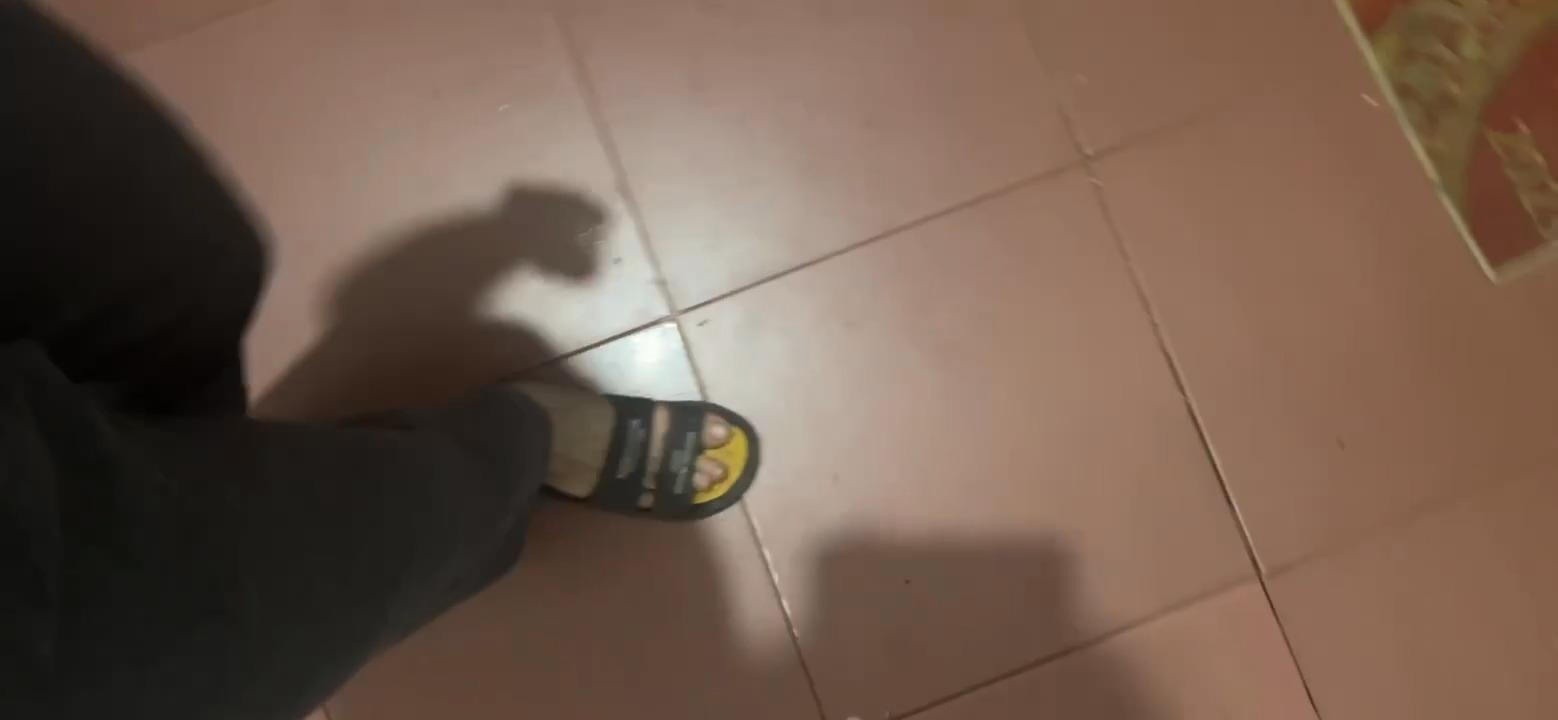no-boot: (489, 365, 763, 533)
